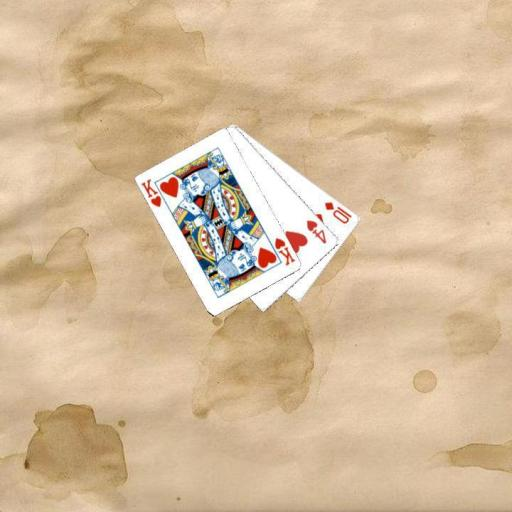card-corner: (322, 198, 354, 226), (138, 176, 164, 209), (272, 235, 296, 267), (304, 217, 328, 245)
